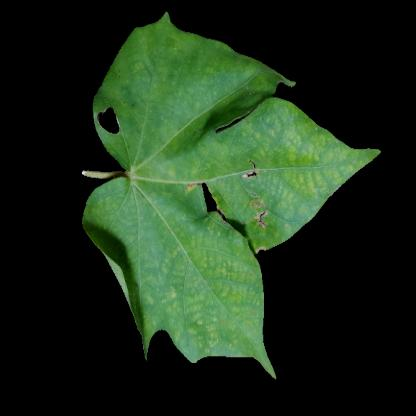curl_stage1: (159, 235, 235, 339), (124, 125, 195, 236), (260, 141, 324, 212), (140, 39, 194, 118), (193, 55, 247, 126), (233, 257, 260, 341), (129, 240, 157, 302), (324, 142, 354, 192)
